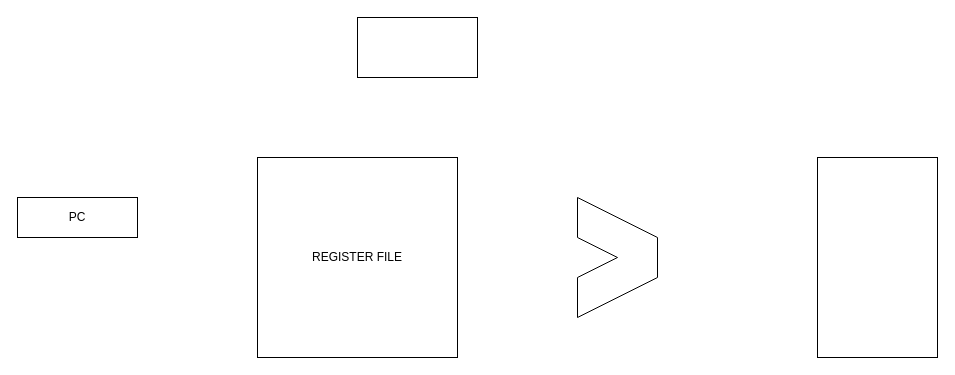
This 955x375 diagram has some shape labels left out. The centre of each missing label's shape, as x and y in pixels:
CONTROL UNIT: the point at 417,47
MEMORY: the point at 877,257
